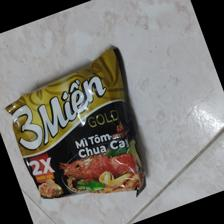3mien: (4, 43, 147, 199)
